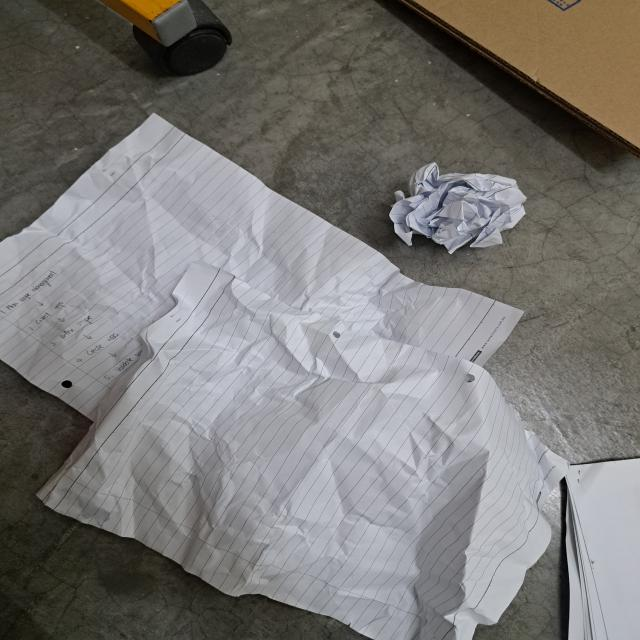cardboard: (408, 0, 640, 150)
paper: (0, 115, 564, 640), (561, 457, 640, 639), (392, 162, 527, 255)
